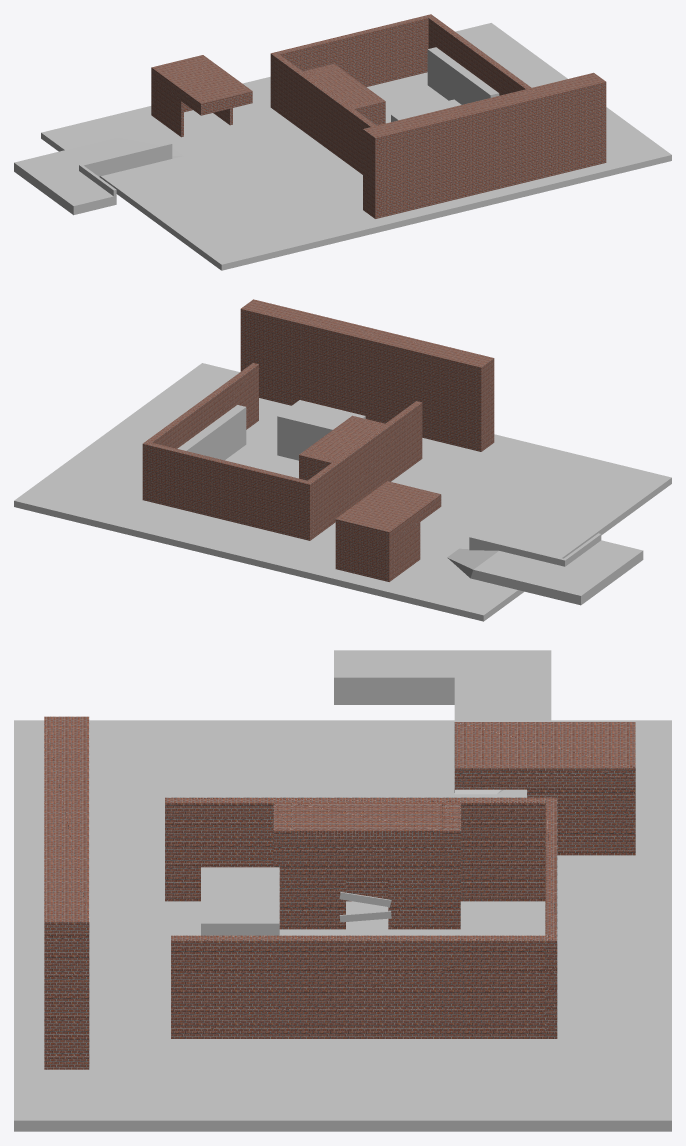
3 views of the same model, one above another, from view 1: azimuth 30°, elevation 25°; view 2: azimuth 150°, elevation 25°; view 3: azimuth 270°, elevation 25° (orthographic). The views are drawn at different scales.
Parts seen in each view (by area): view 1: entity0_brush5, entity0_brush3, entity0_brush2, entity0_brush0, entity0_brush4, entity0_brush1, entity0_brush14, entity0_brush8, entity0_brush7, entity0_brush10, entity14_brush0, entity0_brush6 (+3 smaller); view 2: entity0_brush5, entity0_brush3, entity0_brush2, entity0_brush0, entity0_brush4, entity0_brush1, entity3_brush0, entity0_brush7, entity0_brush11, entity0_brush6, entity0_brush14, entity0_brush8 (+4 smaller); view 3: entity0_brush5, entity0_brush1, entity0_brush0, entity0_brush3, entity0_brush4, entity3_brush0, entity14_brush0, entity14_brush1, entity14_brush3, entity0_brush7, entity0_brush13, entity0_brush9 (+7 smaller).
Part boxes in pixels (bbox=[...]): entity0_brush5: bbox=[41, 23, 671, 270]; entity0_brush3: bbox=[363, 72, 606, 218]; entity0_brush2: bbox=[270, 15, 433, 109]; entity0_brush0: bbox=[273, 54, 376, 174]; entity0_brush4: bbox=[151, 55, 252, 115]; entity0_brush1: bbox=[425, 14, 531, 95]; entity0_brush14: bbox=[427, 47, 499, 104]; entity0_brush8: bbox=[39, 171, 113, 215]; entity0_brush7: bbox=[14, 148, 92, 189]; entity0_brush10: bbox=[82, 142, 172, 176]; entity14_brush0: bbox=[308, 67, 380, 105]; entity0_brush6: bbox=[75, 137, 183, 161]; entity0_brush5: bbox=[14, 363, 671, 621]; entity0_brush3: bbox=[240, 299, 494, 451]; entity0_brush2: bbox=[142, 441, 313, 540]; entity0_brush0: bbox=[308, 401, 422, 537]; entity0_brush4: bbox=[335, 481, 441, 544]; entity0_brush1: bbox=[142, 363, 258, 465]; entity3_brush0: bbox=[277, 400, 365, 460]; entity0_brush7: bbox=[518, 561, 606, 605]; entity0_brush11: bbox=[335, 528, 394, 581]; entity0_brush6: bbox=[447, 548, 543, 589]; entity0_brush14: bbox=[177, 405, 246, 460]; entity0_brush8: bbox=[565, 540, 643, 585]; entity0_brush5: bbox=[14, 720, 671, 1131]; entity0_brush1: bbox=[171, 935, 557, 1038]; entity0_brush0: bbox=[165, 797, 545, 901]; entity0_brush3: bbox=[44, 716, 89, 1069]; entity0_brush4: bbox=[454, 722, 635, 789]; entity3_brush0: bbox=[201, 867, 279, 935]; entity14_brush0: bbox=[291, 803, 442, 836]; entity14_brush1: bbox=[388, 836, 442, 929]; entity14_brush3: bbox=[291, 836, 345, 929]; entity0_brush7: bbox=[460, 650, 551, 703]; entity0_brush13: bbox=[527, 789, 617, 855]; entity0_brush9: bbox=[334, 675, 460, 704].
Bounding box in the file's own units: 2848 × 464 × 1744.
